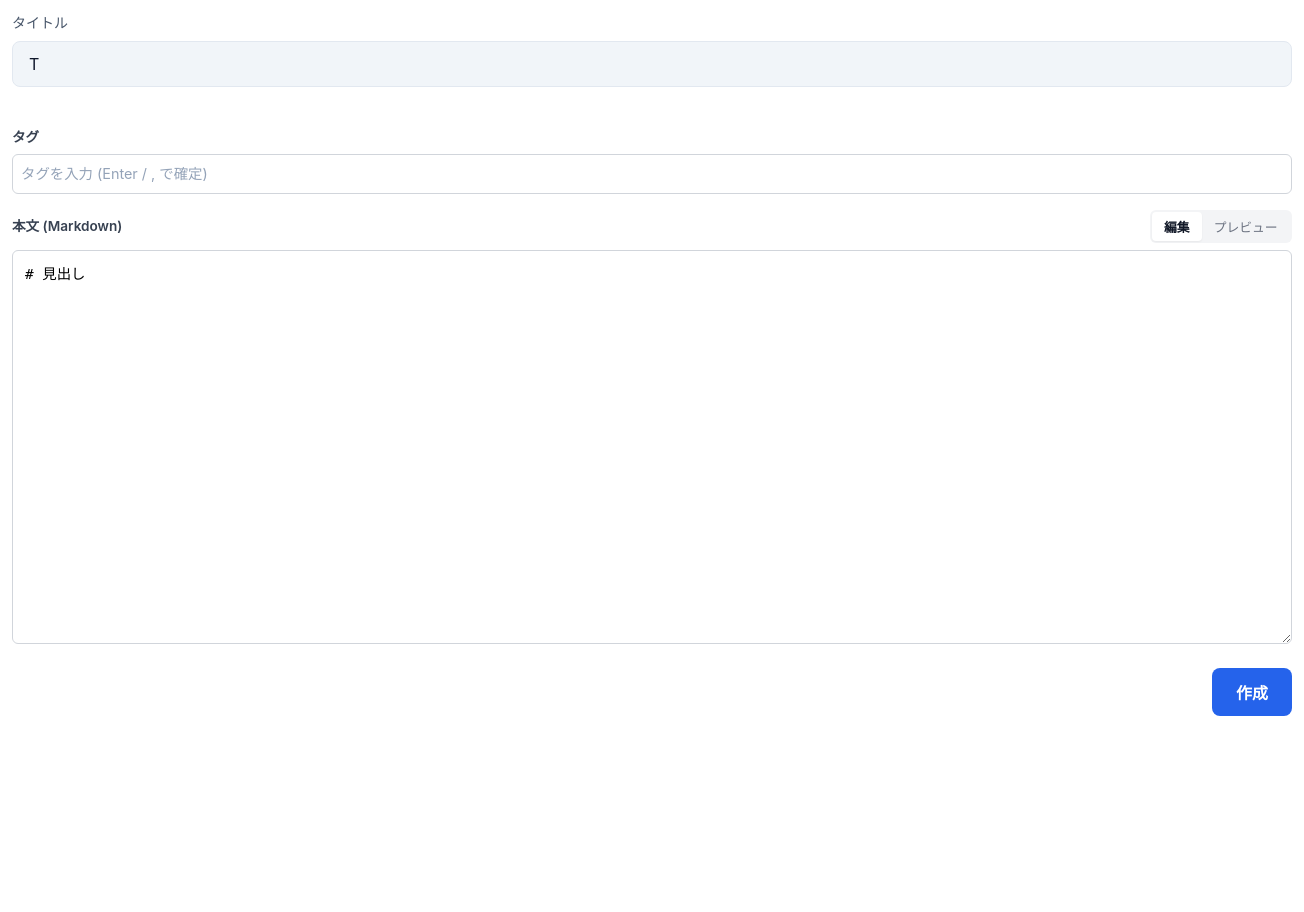
ArticleForm › プレビュー切り替えで Markdown 表示 (lazy chunk 経由)
Step 1. Click the tab "プレビュー" → [1246, 226], box x1=1202 y1=212 x2=1290 y2=241
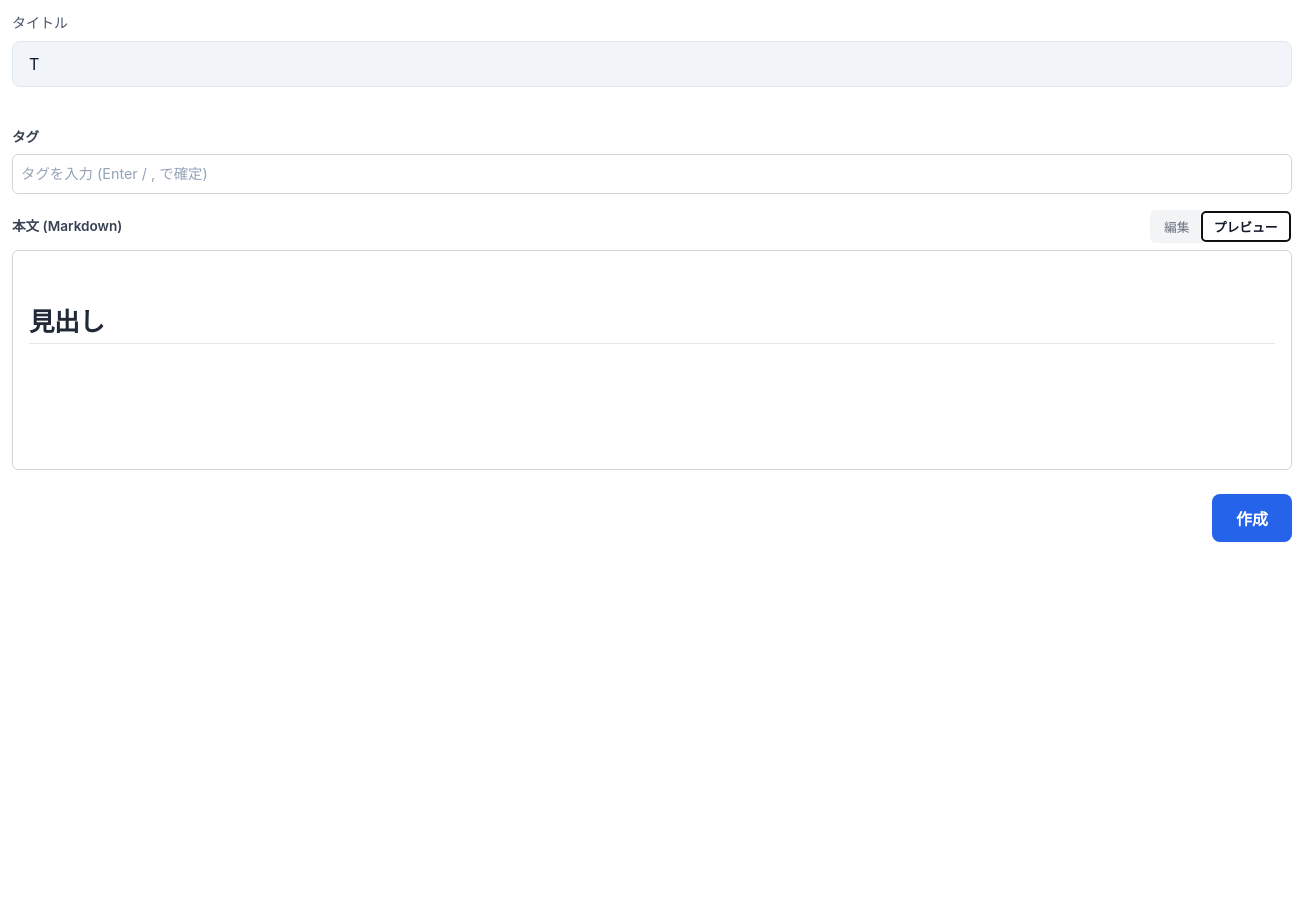
Check: the heading "見出し" is shown, box x1=29 y1=305 x2=1275 y2=344
